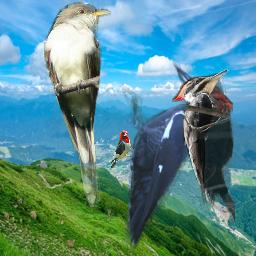Cuckoo: (44, 1, 111, 209)
Woodpecker: (122, 59, 233, 254), (172, 69, 235, 229), (109, 130, 134, 168)
